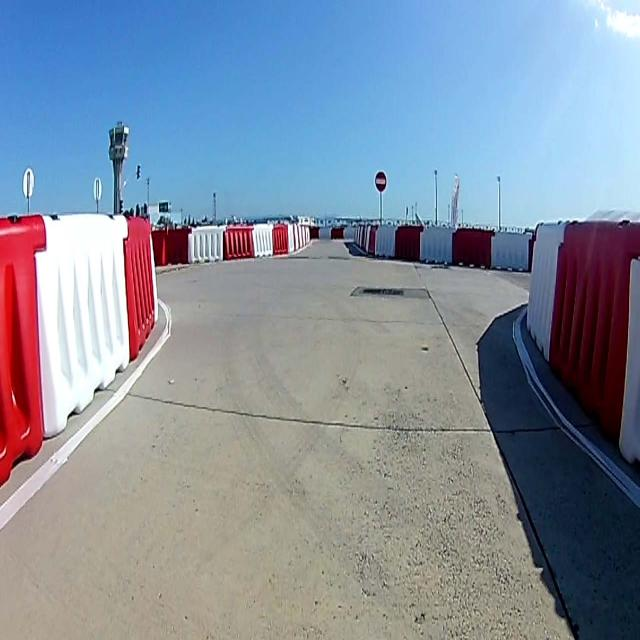girisyok: (375, 171, 387, 192)
